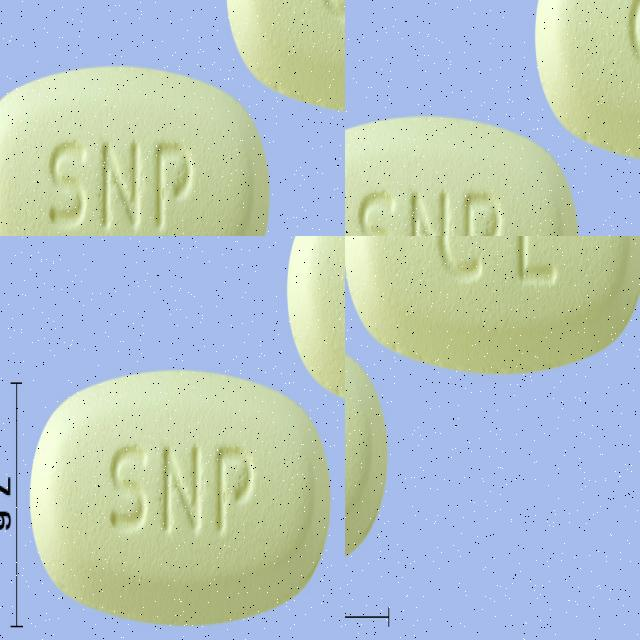A Progen Clarithromycin Tab-500mg: (345, 236, 640, 379)
Ciprotwo: (345, 0, 528, 236), (559, 0, 640, 236)
Clathron - 500mg: (0, 43, 264, 236)
Descovy: (30, 370, 319, 630)
